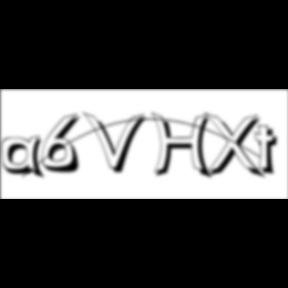6: (42, 112, 86, 176)
H: (151, 112, 217, 182)
V: (84, 110, 150, 176)
X: (204, 112, 268, 182)
a: (1, 135, 49, 182)
t: (254, 124, 286, 179)
